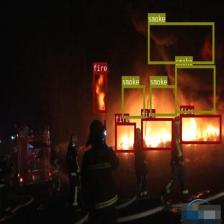fire: (180, 115, 221, 143), (141, 118, 173, 150), (115, 122, 135, 152), (93, 71, 106, 112)
smoke: (148, 22, 214, 63), (175, 65, 215, 112), (150, 85, 176, 116), (122, 85, 145, 118)
